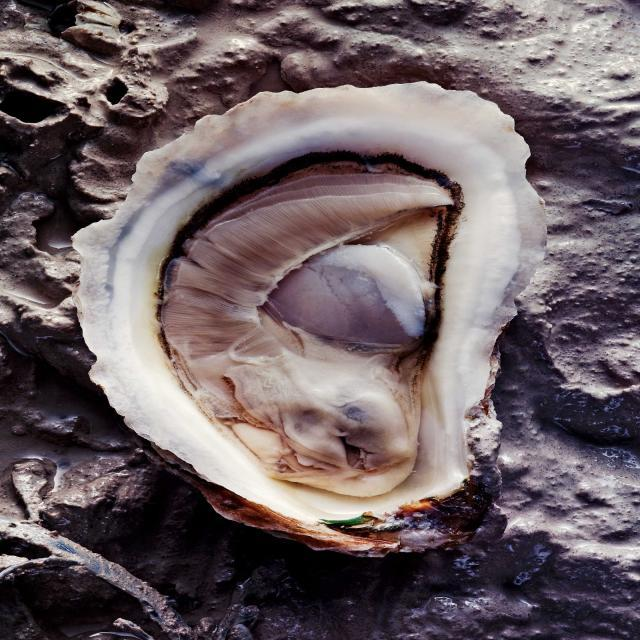Oyster-Open: (70, 82, 549, 561)
